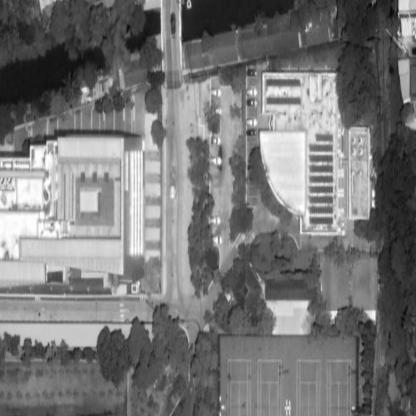solar-pv-panel: (309, 134, 333, 224), (267, 97, 300, 105), (267, 79, 300, 87)
